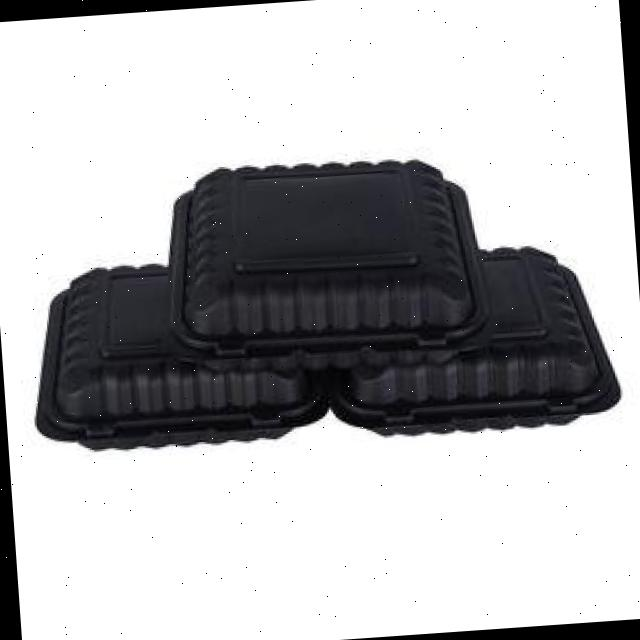styrofoam: (14, 133, 624, 466)
